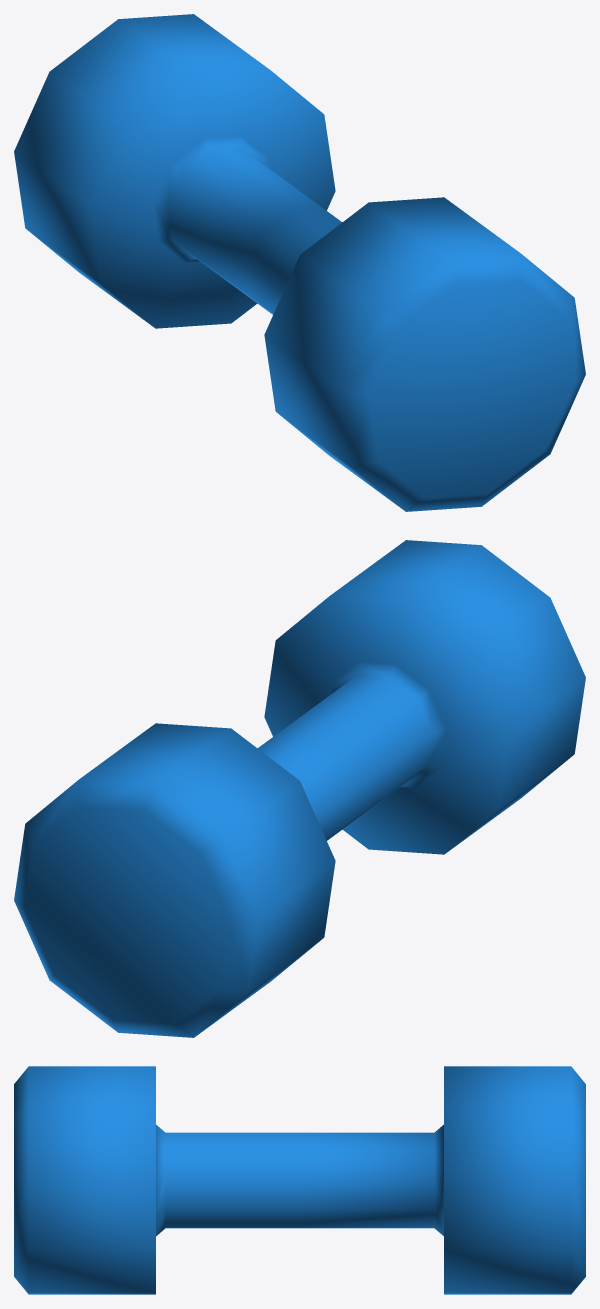
The model's file is ColorfulDumbbells.005.fbx.
3 views of the same model, one above another, from view 1: azimuth 30°, elevation 25°; view 2: azimuth 150°, elevation 25°; view 3: azimuth 270°, elevation 25° (orthographic). The views are drawn at different scales.
Parts seen in each view (by area): view 1: ColurfulDumbbells.006; view 2: ColurfulDumbbells.006; view 3: ColurfulDumbbells.006.
Part boxes in pixels (x1,y1,x2,y2): ColurfulDumbbells.006: [14, 14, 585, 511]; ColurfulDumbbells.006: [14, 540, 585, 1037]; ColurfulDumbbells.006: [14, 1066, 585, 1294].
Bounding box in the file's own units: 4.24 × 4.25 × 10.33.
